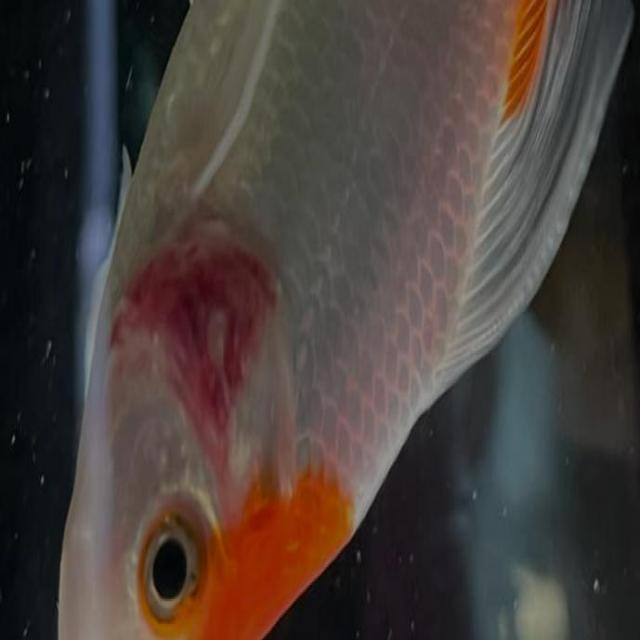Gill Disease: (95, 227, 354, 635)
